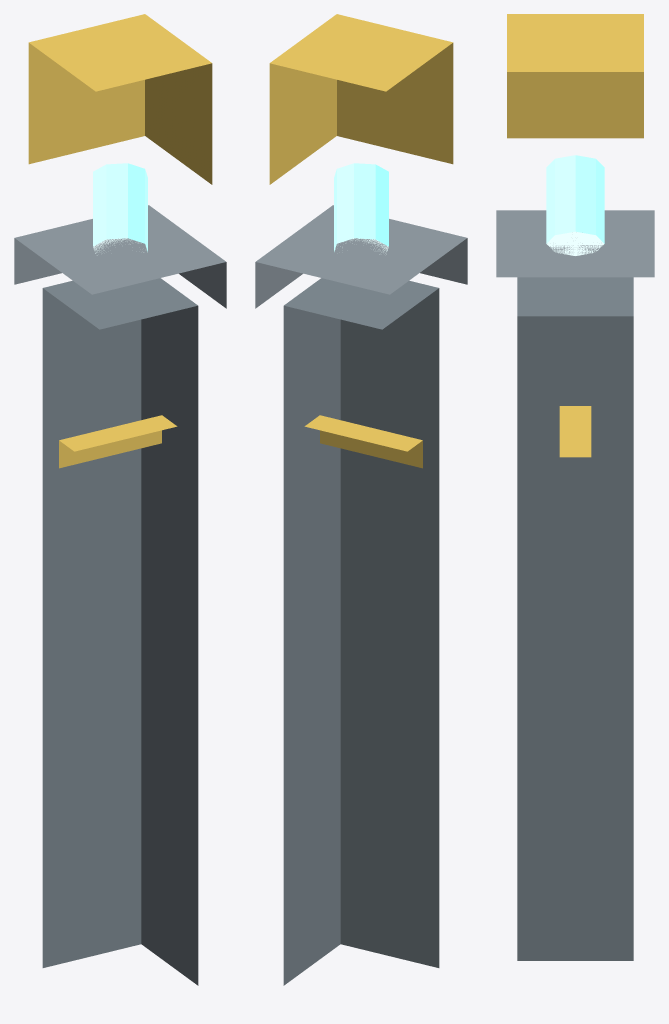
File: fence_post_corner.glb
3 renders of one model, left to right at view 1: azimuth 30°, elevation 25°; view 2: azimuth 150°, elevation 25°; view 3: azimuth 270°, elevation 25°, orthographic.
Visible parts, largest first — view 1: VH_FencePostCorner; view 2: VH_FencePostCorner; view 3: VH_FencePostCorner.
Boxes of the visible parts, box(x1,y1,x2,y2) form: VH_FencePostCorner: box(14, 14, 226, 985); VH_FencePostCorner: box(255, 14, 467, 985); VH_FencePostCorner: box(496, 14, 654, 960).
Size of the model in its own units: 0.3 by 1.97 by 0.3.
